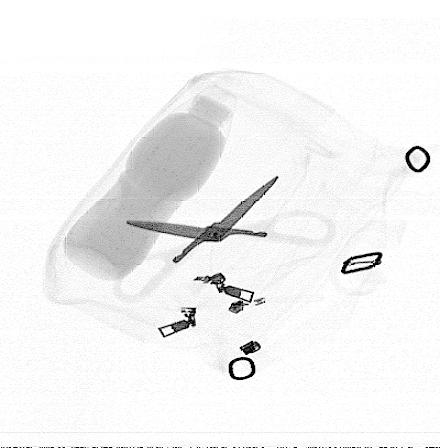Scissors: (113, 173, 341, 303)
